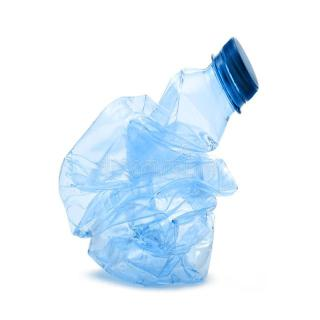Anorganik: (57, 35, 261, 289)
